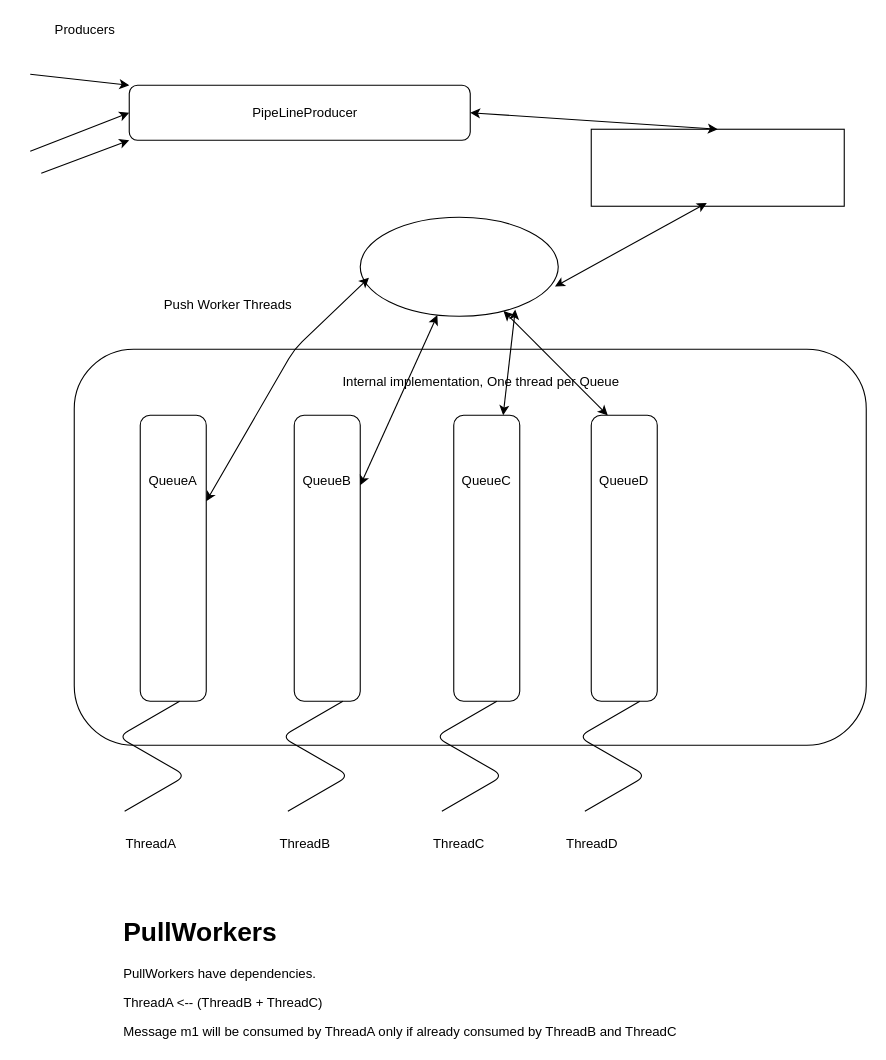
The diagram is 886 pixels wide and 1060 high, and some of its shapes have lost their labels. The centre of each missing label's shape, as x and y in pixels:
"ConsumerExchanger" belongs at point 717,167.
"ThreadPool Executer" belongs at point 458,266.
